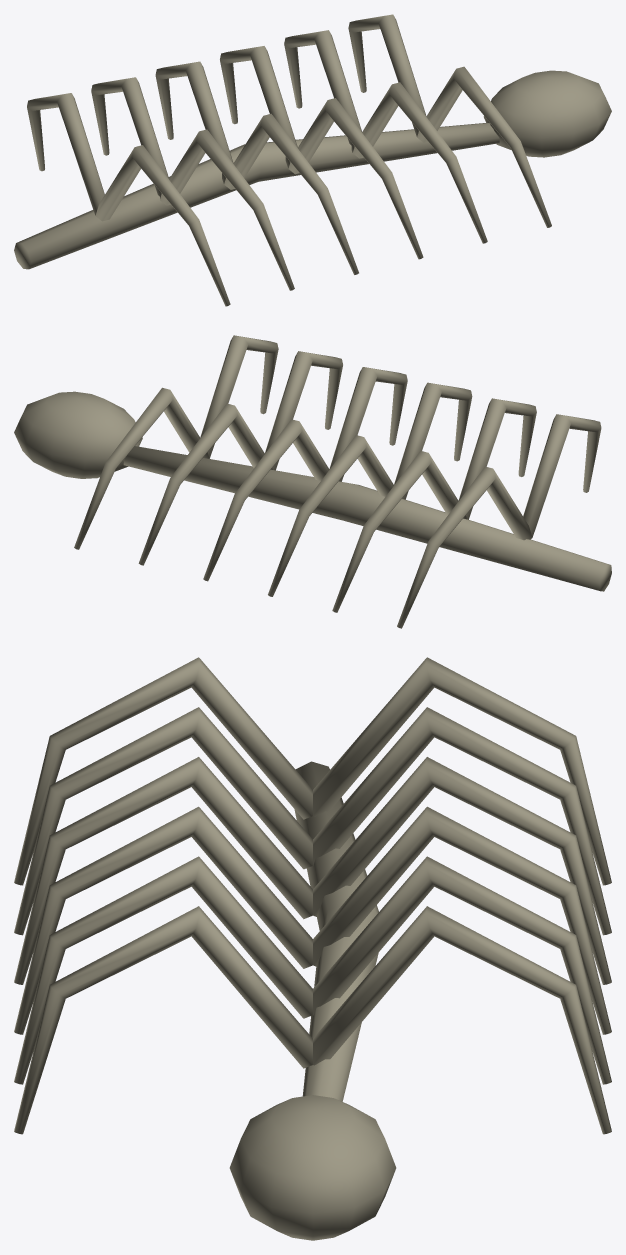
File: bones.glb
3 views of the same model, one above another, from view 1: azimuth 30°, elevation 25°; view 2: azimuth 150°, elevation 25°; view 3: azimuth 270°, elevation 25° (orthographic). The views are drawn at different scales.
Visible parts, largest first — view 1: MV_bones; view 2: MV_bones; view 3: MV_bones.
Boxes of the visible parts, x1,y1,x2,y2 form: MV_bones: (14, 14, 611, 306); MV_bones: (14, 335, 611, 628); MV_bones: (14, 657, 611, 1240).
Bounding box in the file's own units: 1.01 × 0.23 × 0.5642.
